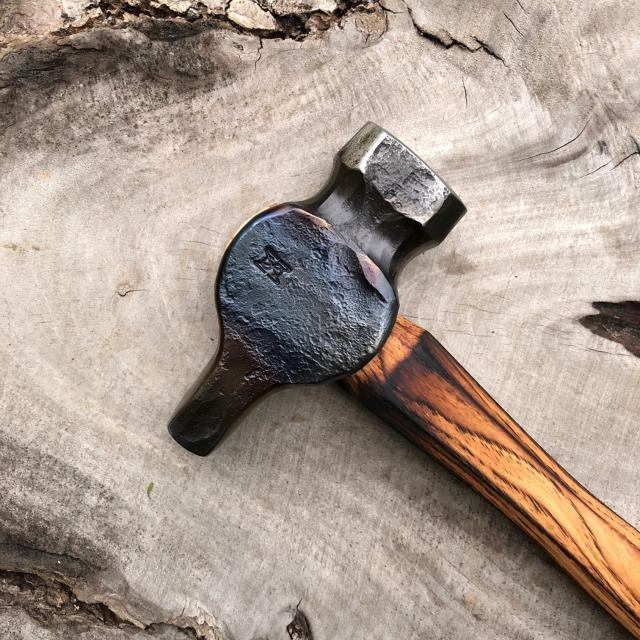hammer: (163, 105, 640, 640)
